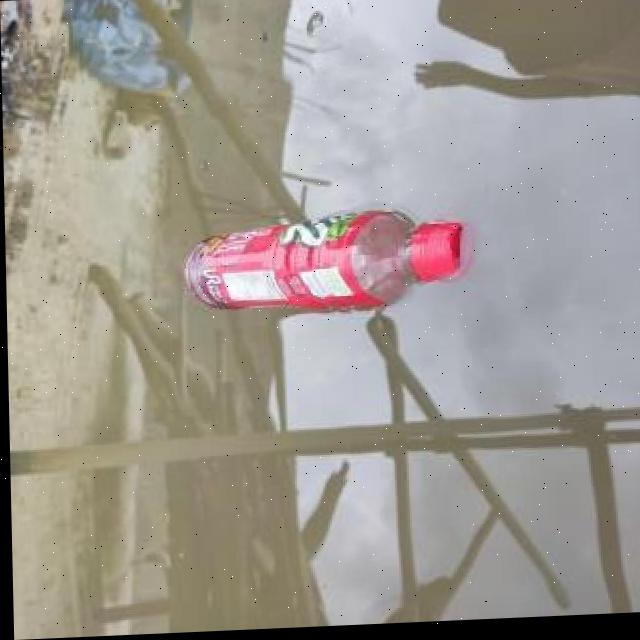bottle: (174, 204, 478, 324)
